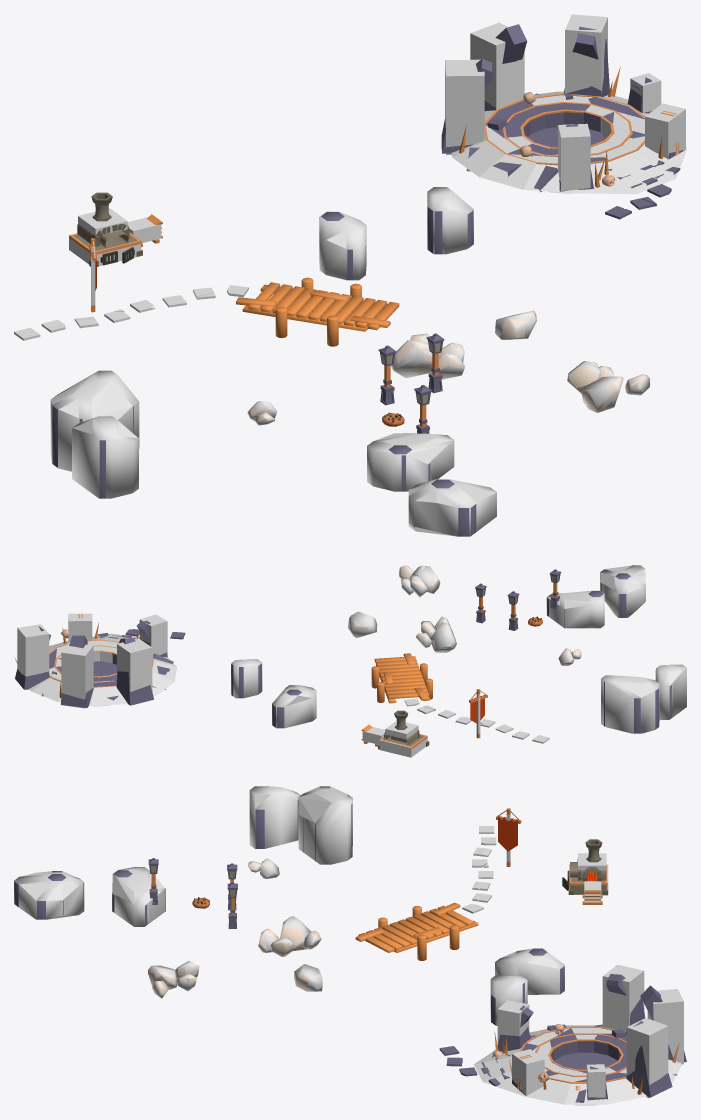
File: sceneryStatic.glb
3 views of the same model, one above another, from view 1: azimuth 30°, elevation 25°; view 2: azimuth 150°, elevation 25°; view 3: azimuth 270°, elevation 25° (orthographic). The views are drawn at different scales.
Visible parts, largest first — view 1: trimesh.001, Cube.139, hull.016, hull.015, Cylinder.021, hull.012, hull.011, Cube.165, Cylinder.022, Cube.172, hull.014, Cube.164 (+10 smaller); view 2: hull.015, trimesh.001, Cube.139, Cube.172, hull.012, hull.011, Cylinder.022, Cube.164, Cube.146, Cube.165, hull.016, hull.014 (+12 smaller); view 3: trimesh.001, hull.015, Cube.139, Cube.172, Cylinder.021, hull.011, hull.016, hull.012, Cube.146, hull.014, Cube.165, Cylinder.022 (+10 smaller).
Boxes of the visible parts, box(x1,y1,x2,y2) form: trimesh.001: box(451, 91, 686, 194); Cube.139: box(236, 277, 399, 346); hull.016: box(72, 416, 138, 498); hull.015: box(50, 370, 139, 471); Cylinder.021: box(486, 97, 680, 187); hull.012: box(367, 433, 454, 491); hull.011: box(408, 479, 496, 536); Cube.165: box(445, 59, 484, 154); Cylinder.022: box(52, 207, 476, 536); Cube.172: box(441, 24, 651, 191); hull.014: box(319, 211, 366, 280); Cube.164: box(470, 22, 524, 109); hull.015: box(601, 675, 659, 733); trimesh.001: box(29, 633, 177, 706); Cube.139: box(371, 653, 432, 703); Cube.172: box(15, 620, 167, 707); hull.012: box(546, 590, 604, 628); hull.011: box(600, 565, 645, 617); Cylinder.022: box(231, 573, 671, 733); Cube.164: box(61, 642, 93, 708); Cube.146: box(17, 624, 49, 689); Cube.165: box(117, 638, 152, 705); hull.016: box(655, 664, 686, 719); hull.014: box(272, 685, 316, 728); trimesh.001: box(473, 1025, 681, 1105); hull.015: box(298, 786, 352, 864); Cube.139: box(355, 902, 478, 960); Cube.172: box(497, 974, 686, 1100); Cylinder.021: box(481, 1028, 626, 1086); hull.011: box(14, 871, 84, 919); hull.016: box(249, 786, 300, 848); hull.012: box(112, 867, 165, 926); Cube.146: box(626, 1018, 668, 1098); hull.014: box(495, 948, 564, 994); Cube.165: box(602, 964, 644, 1031); Cylinder.022: box(14, 800, 564, 1025).
Bounding box in the file's own units: 51.77 × 8.2 × 48.64.
